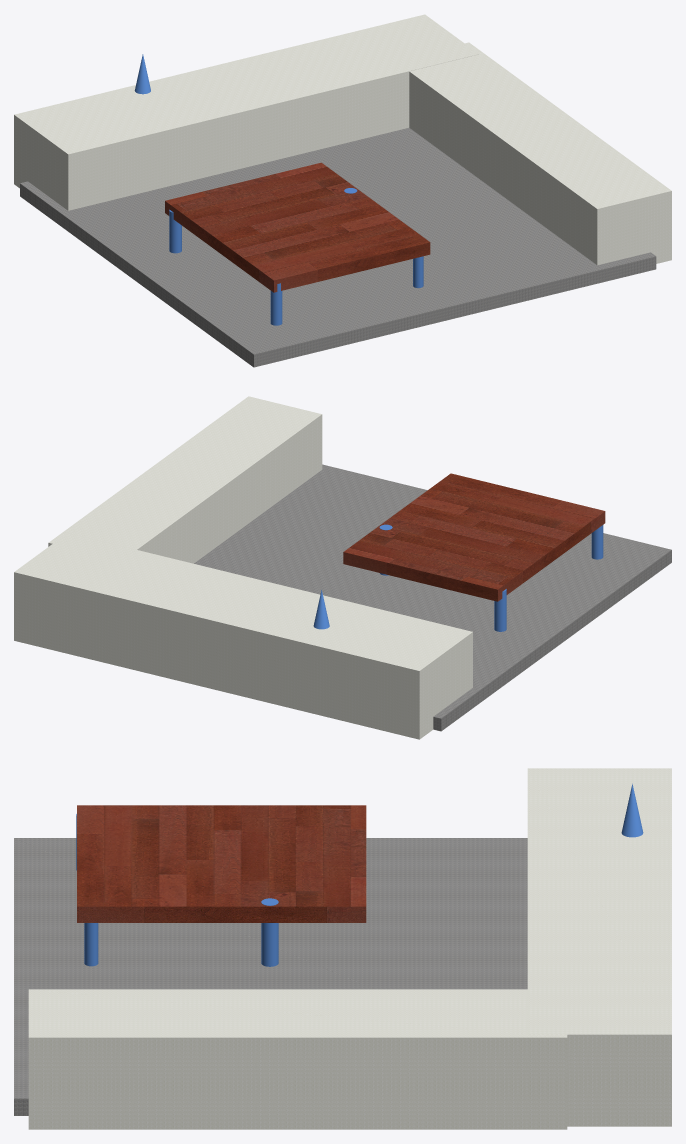
Rendered from kitchen.obj.
3 views of the same model, one above another, from view 1: azimuth 30°, elevation 25°; view 2: azimuth 150°, elevation 25°; view 3: azimuth 270°, elevation 25° (orthographic). The views are drawn at different scales.
Parts seen in each view (by area): view 1: Box001, Box002, Box003, Box005; view 2: Box002, Box001, Box003, Box005; view 3: Box003, Box001, Box002, Box005, Cylinder002, Cone001, Cylinder004.
Part boxes in pixels (x1=…): Box001: x1=20, y1=128, x2=656, y2=367; Box002: x1=14, y1=14, x2=478, y2=210; Box003: x1=409, y1=42, x2=671, y2=265; Box005: x1=165, y1=162, x2=430, y2=292; Box002: x1=14, y1=533, x2=472, y2=739; Box001: x1=194, y1=464, x2=671, y2=731; Box003: x1=48, y1=396, x2=322, y2=563; Box005: x1=343, y1=473, x2=605, y2=601; Box003: x1=28, y1=989, x2=567, y2=1129; Box001: x1=14, y1=838, x2=527, y2=1115; Box002: x1=527, y1=768, x2=671, y2=1126; Box005: x1=77, y1=805, x2=366, y2=922; Cylinder002: x1=261, y1=898, x2=278, y2=966; Cone001: x1=621, y1=783, x2=643, y2=837; Cylinder004: x1=84, y1=923, x2=98, y2=966.
Bounding box in the file's own units: 144 × 36.89 × 146.
4 materials, 3 textured.
